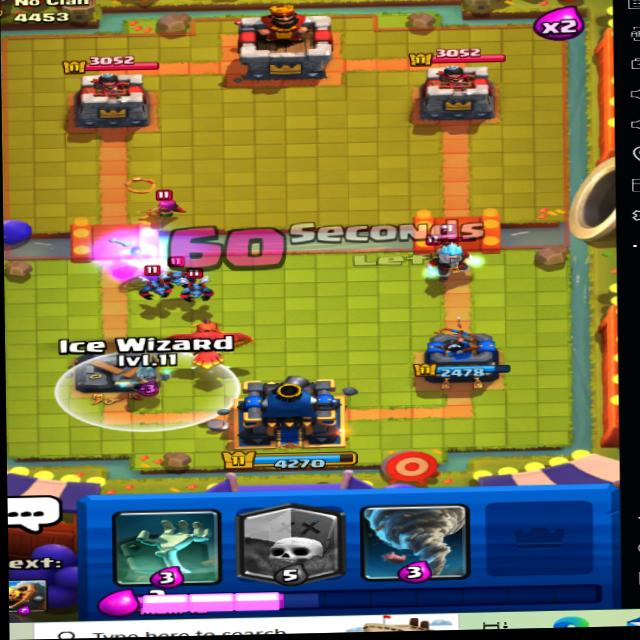archer: (142, 186, 184, 217)
ice-wizard: (418, 238, 491, 283)
minion: (126, 270, 169, 304), (153, 250, 186, 288), (182, 276, 227, 300)
